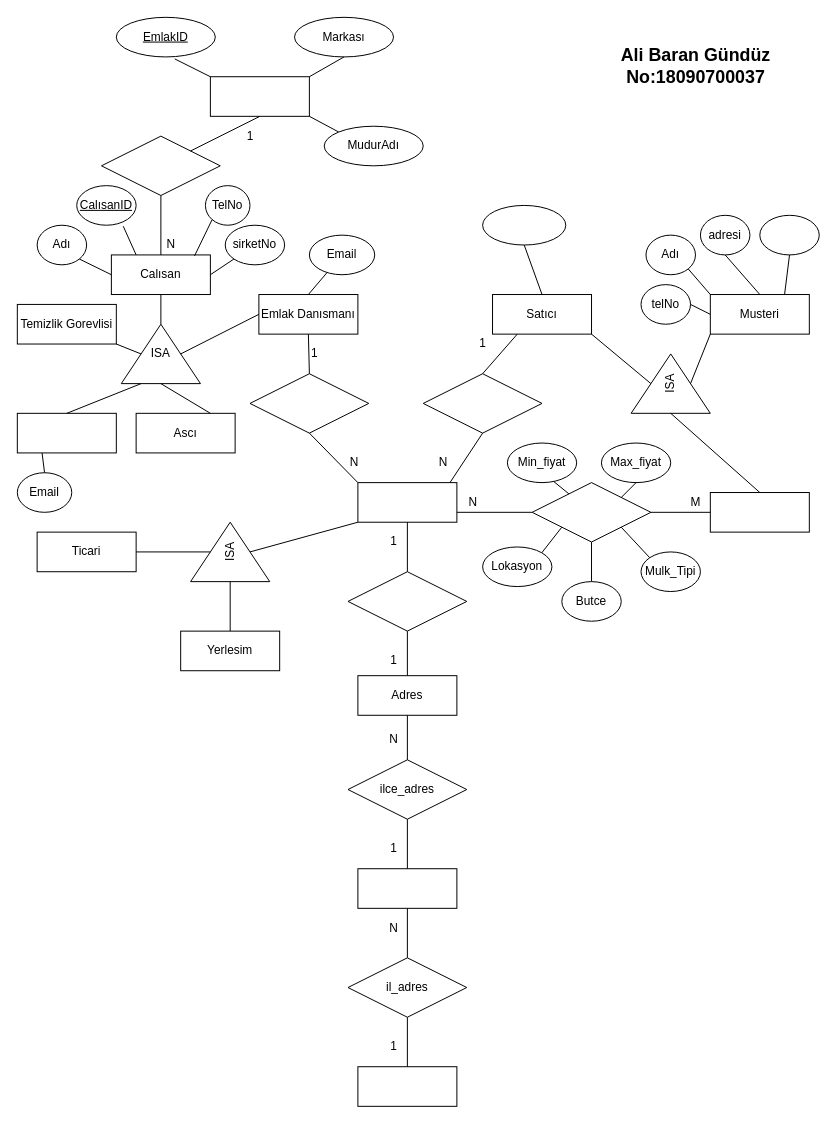
Image size: 837x1124. Some labels were removed from this diagram. Each missing label, with the centre of its shape:
Alıcı: pixel 759 512
Arar: pixel 591 512
Emlak sirketi: pixel 259 96
il: pixel 407 1086
ilce: pixel 407 888
Mulk: pixel 407 502
Mulk_Adres: pixel 407 601
MulkID: pixel 524 224
MusteriID: pixel 789 234
Satar: pixel 482 403
Sekreter: pixel 66 432
Temsil Eder: pixel 309 403
Var: pixel 160 165
